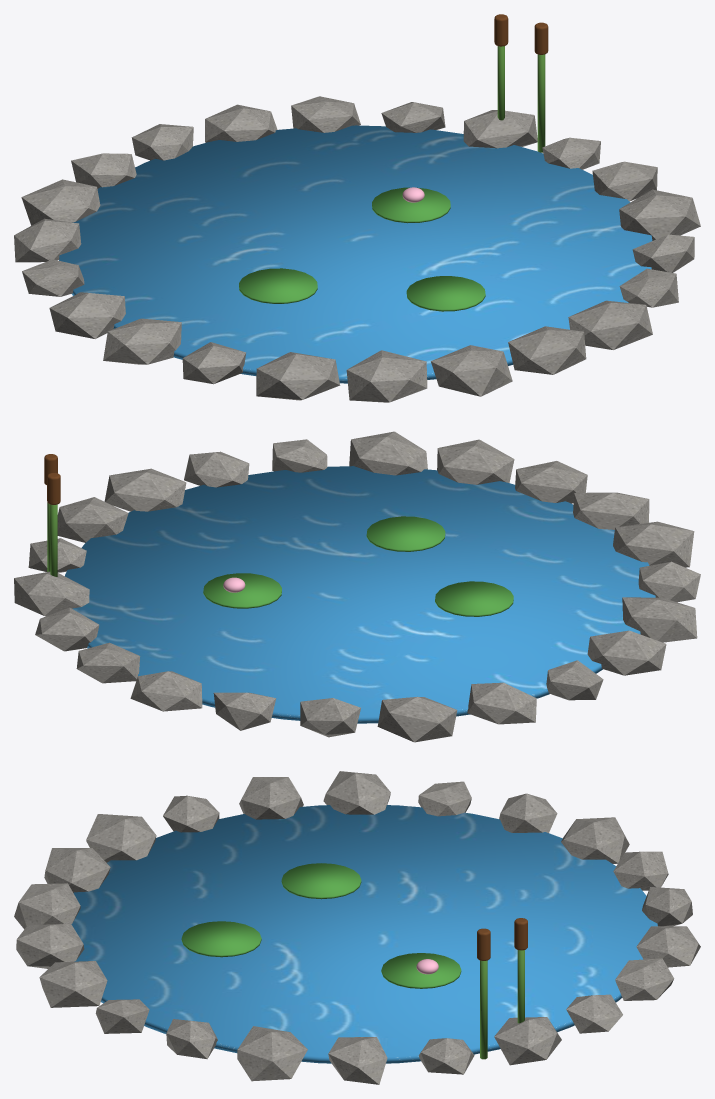
File: pond.glb
The picture shows the model from 3 angles, top to bottom: view 1: azimuth 30°, elevation 25°; view 2: azimuth 150°, elevation 25°; view 3: azimuth 270°, elevation 25°; orthographic projection.
Visible parts, largest first — view 1: water, stone.015, stone.014, stone.018, stone.016, stone.012, stone.021, stone.017, stone.011, stone.008, stone.002, stone.009 (+15 smaller); view 2: water, stone.014, stone.008, stone.021, stone.012, stone.011, stone.017, stone.018, stone.002, stone.015, stone.009, stone (+15 smaller); view 3: water, stone.021, stone.018, stone.014, stone.017, stone.002, stone.008, lilypad.002, lilypad.001, stone.016, stone.011, stone.015 (+16 smaller).
Boxes of the visible parts, x1,y1,x2,y2 form: water: [59, 125, 652, 383]; stone.015: [346, 350, 427, 402]; stone.014: [256, 352, 340, 400]; stone.018: [568, 300, 652, 349]; stone.016: [431, 345, 512, 396]; stone.012: [103, 318, 181, 364]; stone.021: [619, 189, 700, 240]; stone.017: [508, 326, 586, 374]; stone.011: [49, 292, 125, 338]; stone.008: [21, 179, 100, 225]; stone.002: [463, 110, 537, 148]; stone.009: [14, 218, 81, 262]; water: [65, 466, 655, 723]; stone.014: [613, 521, 694, 567]; stone.008: [377, 696, 457, 742]; stone.021: [104, 468, 186, 511]; stone.012: [622, 597, 697, 642]; stone.011: [587, 630, 666, 675]; stone.017: [437, 439, 514, 484]; stone.018: [349, 431, 427, 475]; stone.002: [14, 571, 89, 616]; stone.015: [573, 492, 649, 529]; stone.009: [467, 682, 536, 724]; stone: [57, 497, 128, 542]; water: [71, 805, 657, 1063]; stone.021: [237, 1026, 307, 1081]; stone.018: [39, 961, 107, 1007]; stone.014: [86, 814, 156, 862]; stone.017: [16, 923, 84, 968]; stone.002: [494, 1017, 561, 1065]; stone.008: [561, 817, 629, 863]; lilypad.002: [181, 921, 261, 957]; lilypad.001: [281, 863, 361, 899]; stone.016: [14, 883, 80, 929]; stone.011: [323, 771, 390, 814]; stone.015: [44, 848, 110, 892].
Size of the model in its own units: 5.61 by 1.27 by 5.5.
6 materials, 2 textured.
